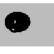correct: (2, 10, 32, 34)
